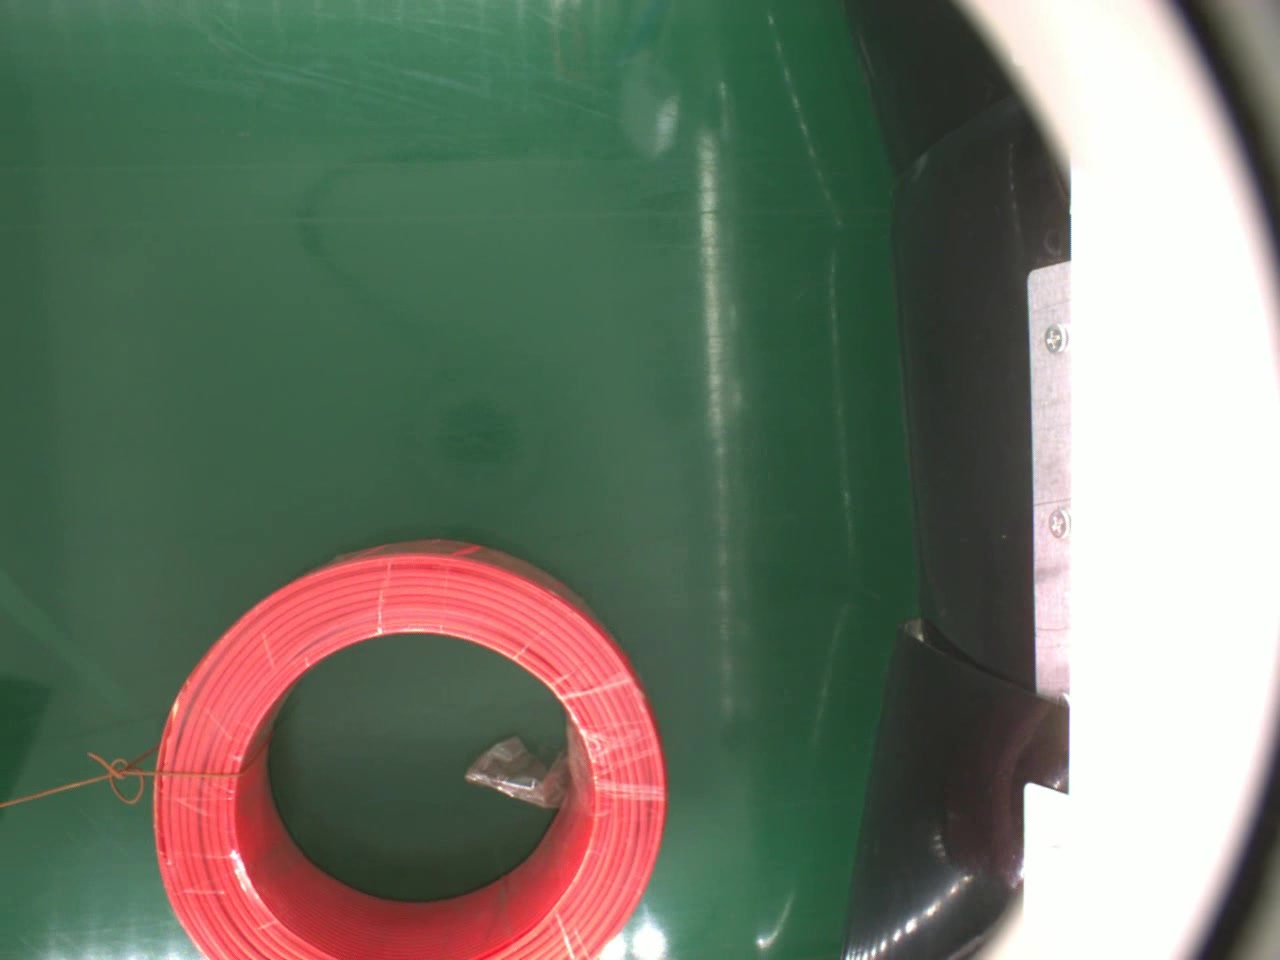red: (154, 535, 673, 960)
